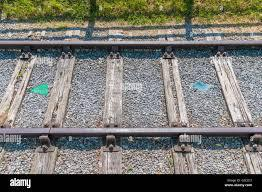Dust_screen: (30, 81, 49, 99)
Plastic: (193, 79, 216, 94)
